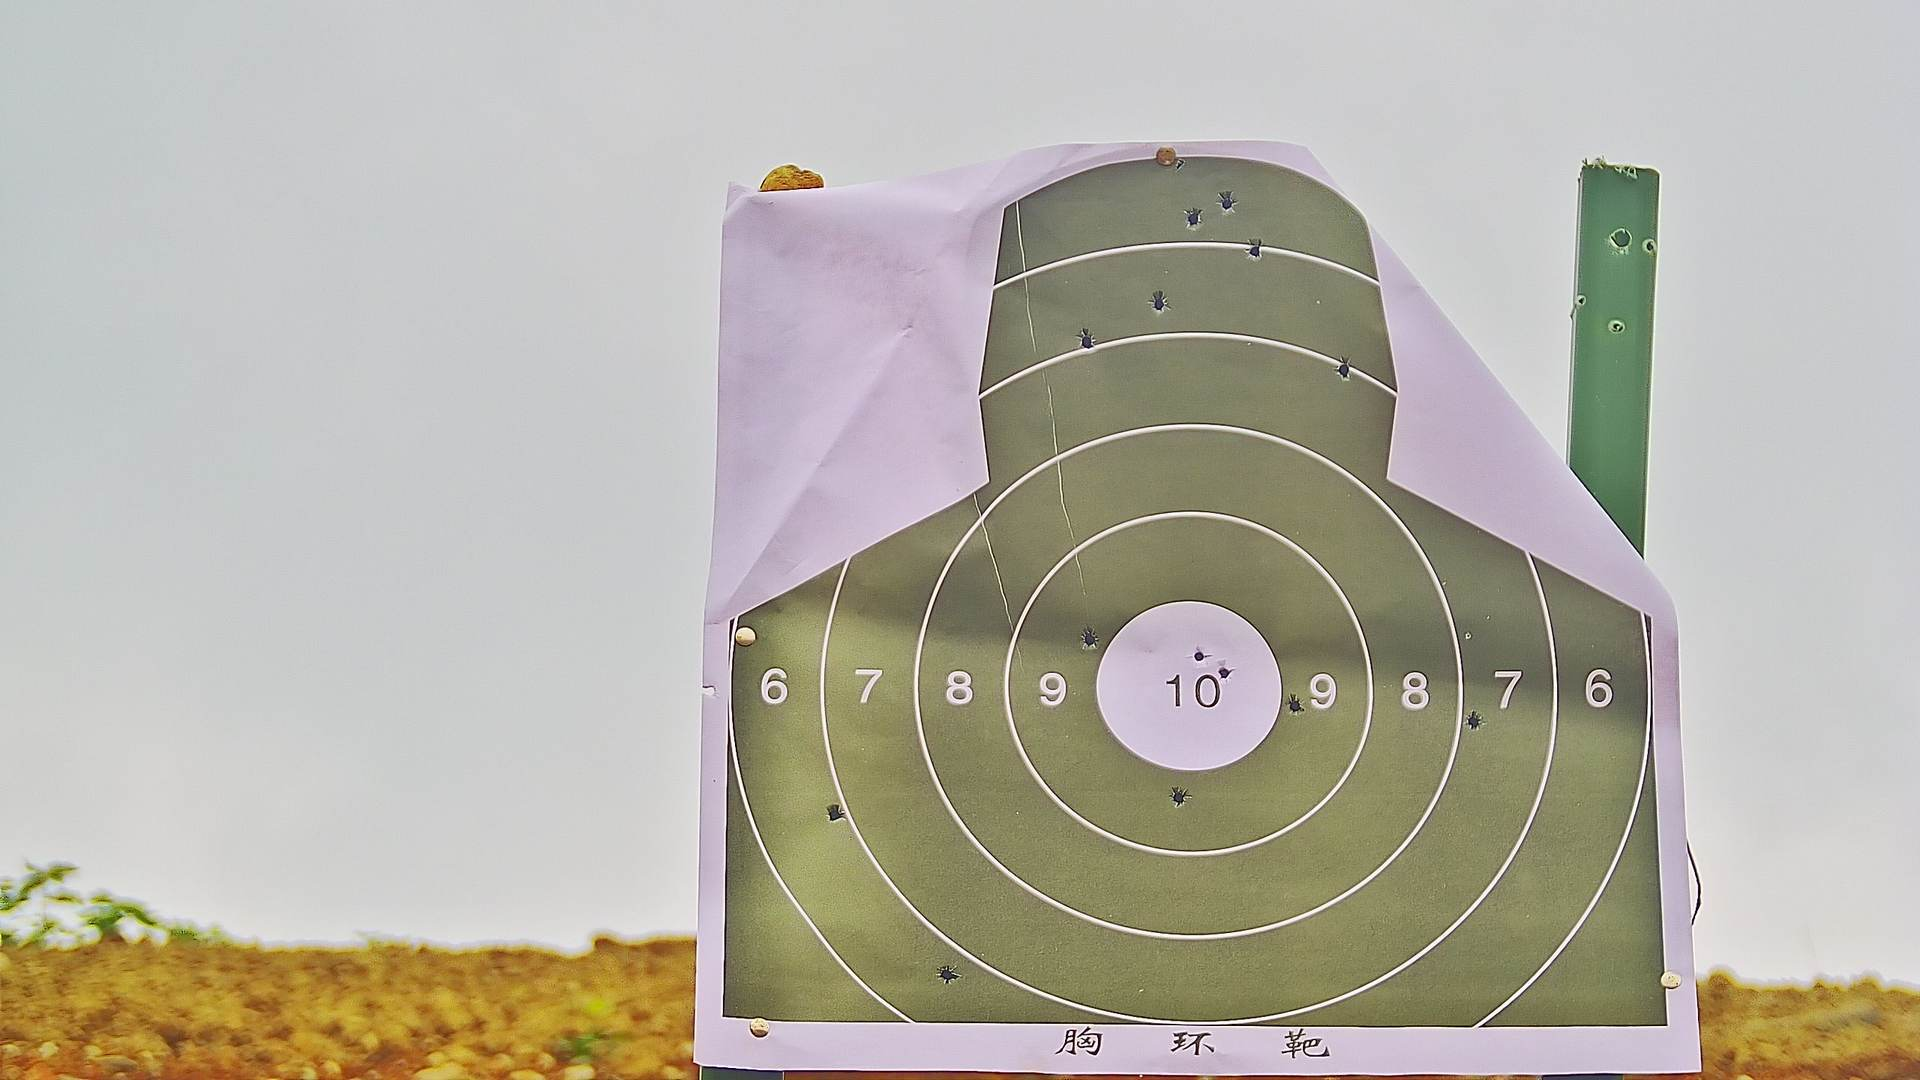hole: (1149, 293, 1168, 313), (1218, 194, 1234, 211), (1335, 361, 1350, 378), (1247, 243, 1263, 258), (1077, 332, 1093, 348), (1468, 713, 1484, 729), (940, 967, 956, 982), (1288, 698, 1303, 715), (828, 804, 841, 822), (1218, 665, 1232, 680), (1187, 208, 1199, 225), (1174, 790, 1185, 804), (1084, 630, 1095, 646), (1192, 650, 1204, 661)
target: (731, 160, 1677, 1033)
ten: (1095, 591, 1282, 775)
